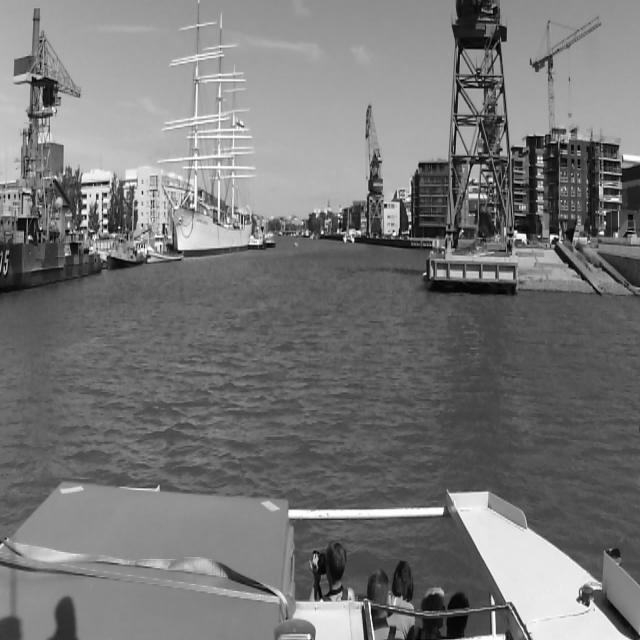ship: (162, 3, 250, 255), (0, 237, 102, 289), (105, 227, 143, 266), (148, 231, 182, 262), (342, 195, 356, 247), (251, 235, 263, 249), (265, 237, 275, 247)
